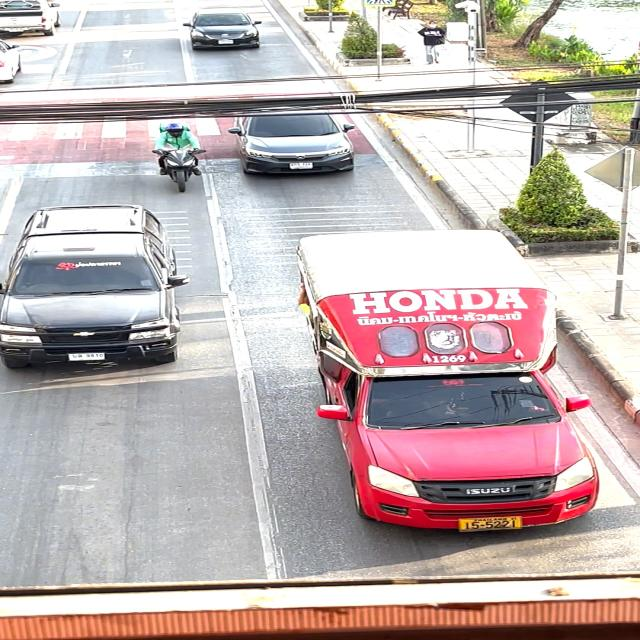car: (282, 222, 618, 544), (0, 193, 205, 379), (223, 95, 371, 181), (177, 6, 273, 58)
